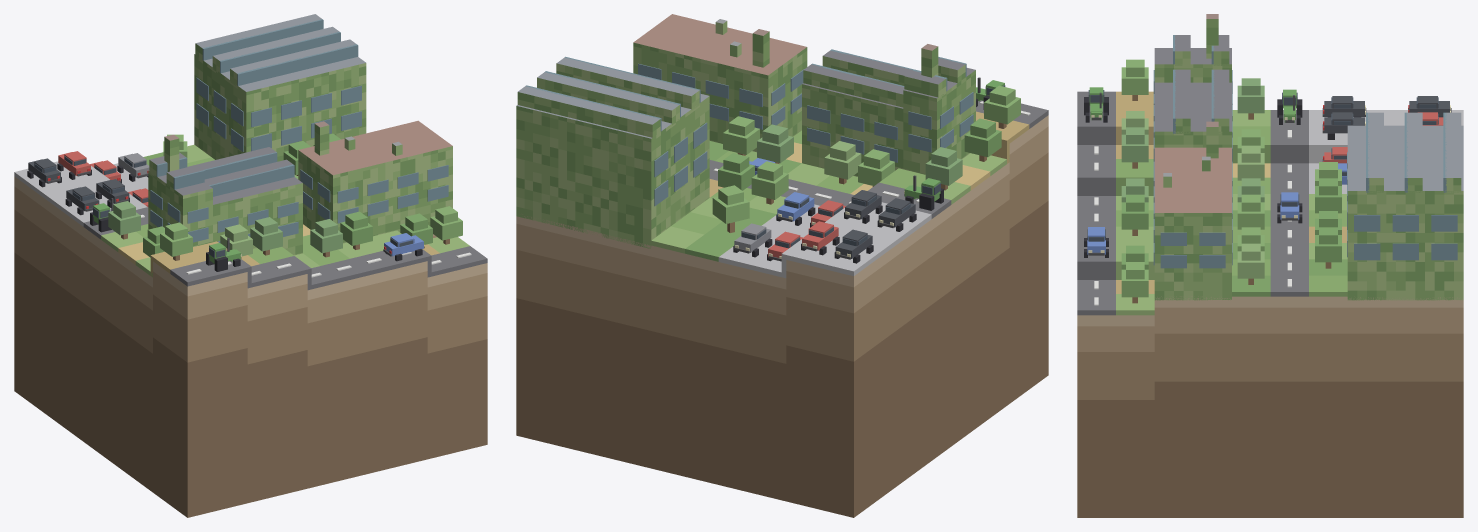
File: block_13_greenfacade_45.glb
3 views of the same model, side by side, from view 1: azimuth 30°, elevation 25°; view 2: azimuth 150°, elevation 25°; view 3: azimuth 270°, elevation 25° (orthographic). The views are drawn at different scales.
Visible parts, largest first — view 1: Patch_LowerLeft_b13_GF, Factories_LowerLeft_b13_GF, Roads_LowerLeft_b13_GF, Ground_LowerLeft_b13_GF, Parking_LowerLeft_b13_GF, Asset_Tree_Round.111_GF, Asset_Tree_Round.114_GF, Asset_Tree_Round.093_GF, Asset_Tree_Round.117_GF, Asset_Tree_Round.115_GF, Asset_Tree_Round.113_GF, Asset_Car.007_GF (+8 smaller); view 2: Patch_LowerLeft_b13_GF, Factories_LowerLeft_b13_GF, Ground_LowerLeft_b13_GF, Parking_LowerLeft_b13_GF, Roads_LowerLeft_b13_GF, Asset_Tree_Round.019_GF, Asset_Tree_Round.086_GF, Asset_Tree_Round.105_GF, Asset_Tree_Round.111_GF, Asset_Tree_Round.095_GF, Asset_Tree_Round.096_GF, Asset_Tree_Round.093_GF (+10 smaller); view 3: Patch_LowerLeft_b13_GF, Factories_LowerLeft_b13_GF, Roads_LowerLeft_b13_GF, Ground_LowerLeft_b13_GF, Parking_LowerLeft_b13_GF, Asset_Tree_Round.093_GF, Asset_Tree_Round.099_GF, Asset_Tree_Round.113_GF, Asset_Tree_Round.117_GF, Asset_Tree_Round.111_GF, Asset_Tree_Round.115_GF, Asset_Tree_Round.089_GF (+19 smaller).
Part boxes in pixels (x1,y1,x2,y2): Patch_LowerLeft_b13_GF: (14, 176, 487, 517); Factories_LowerLeft_b13_GF: (148, 14, 452, 255); Roads_LowerLeft_b13_GF: (83, 207, 487, 290); Ground_LowerLeft_b13_GF: (101, 144, 469, 277); Parking_LowerLeft_b13_GF: (14, 161, 148, 226); Asset_Tree_Round.111_GF: (160, 222, 192, 260); Asset_Tree_Round.114_GF: (310, 219, 342, 257); Asset_Tree_Round.093_GF: (108, 201, 140, 239); Asset_Tree_Round.117_GF: (430, 206, 462, 244); Asset_Tree_Round.115_GF: (340, 211, 372, 249); Asset_Tree_Round.113_GF: (250, 217, 282, 255); Asset_Car.007_GF: (383, 233, 424, 261); Patch_LowerLeft_b13_GF: (516, 115, 1048, 517); Factories_LowerLeft_b13_GF: (516, 14, 975, 248); Ground_LowerLeft_b13_GF: (651, 111, 1029, 261); Parking_LowerLeft_b13_GF: (718, 202, 931, 278); Roads_LowerLeft_b13_GF: (709, 100, 1048, 218); Asset_Tree_Round.019_GF: (712, 185, 749, 232); Asset_Tree_Round.086_GF: (751, 161, 788, 204); Asset_Tree_Round.105_GF: (964, 118, 1001, 161); Asset_Tree_Round.111_GF: (984, 85, 1020, 128); Asset_Tree_Round.095_GF: (824, 141, 861, 184); Asset_Tree_Round.096_GF: (757, 124, 793, 163); Asset_Tree_Round.093_GF: (925, 147, 962, 190); Patch_LowerLeft_b13_GF: (1077, 296, 1463, 517); Factories_LowerLeft_b13_GF: (1153, 14, 1463, 300); Roads_LowerLeft_b13_GF: (1077, 91, 1308, 315); Ground_LowerLeft_b13_GF: (1116, 91, 1347, 315); Parking_LowerLeft_b13_GF: (1309, 110, 1463, 193); Asset_Tree_Round.093_GF: (1237, 78, 1264, 119); Asset_Tree_Round.099_GF: (1237, 243, 1264, 284); Asset_Tree_Round.113_GF: (1121, 127, 1148, 168); Asset_Tree_Round.117_GF: (1121, 262, 1148, 303); Asset_Tree_Round.111_GF: (1121, 59, 1148, 100); Asset_Tree_Round.115_GF: (1121, 194, 1148, 235); Asset_Tree_Round.089_GF: (1315, 227, 1341, 268).
Size of the model in its own units: 9.52 by 9.83 by 9.5.
